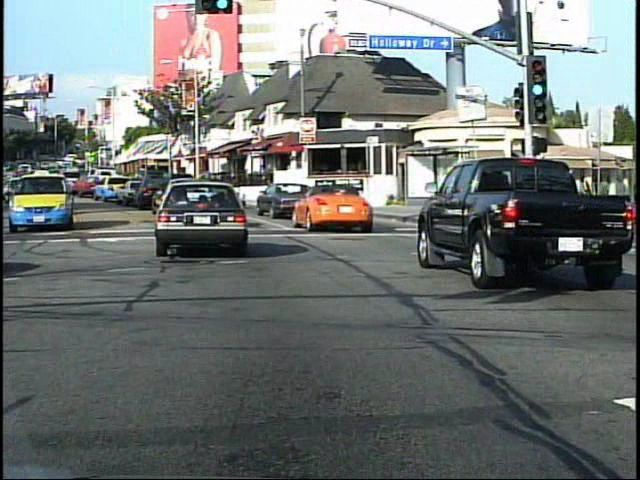person: (590, 184, 613, 254)
